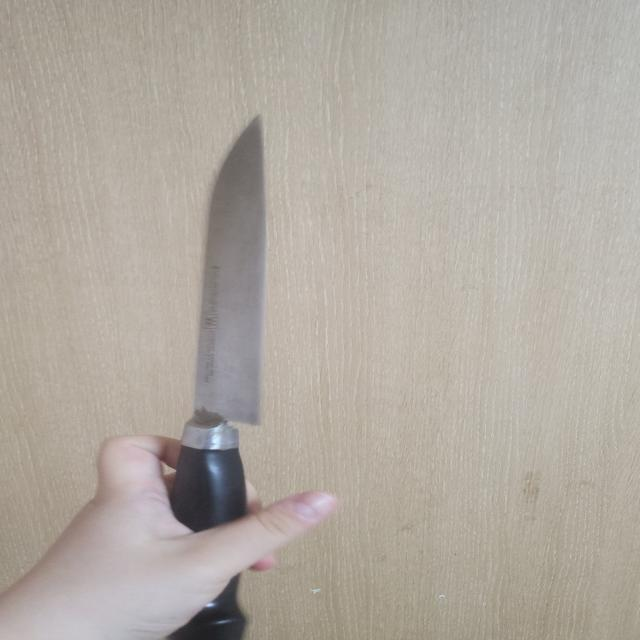knife: (162, 111, 263, 640)
